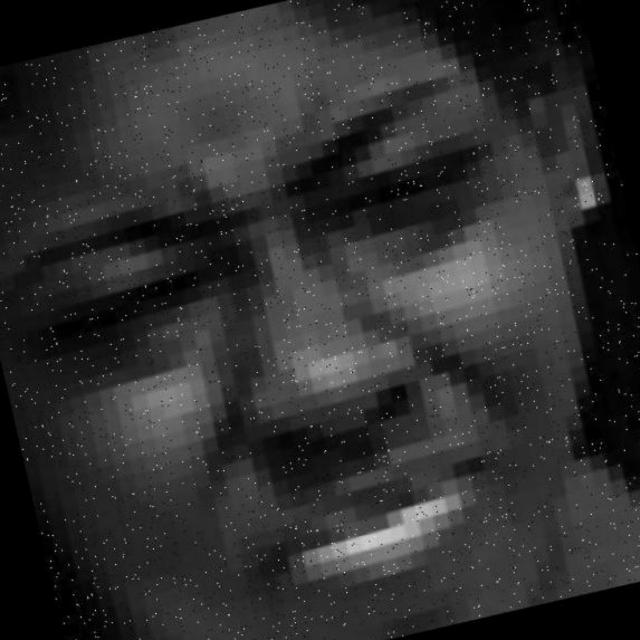Angry: (20, 56, 640, 625)
